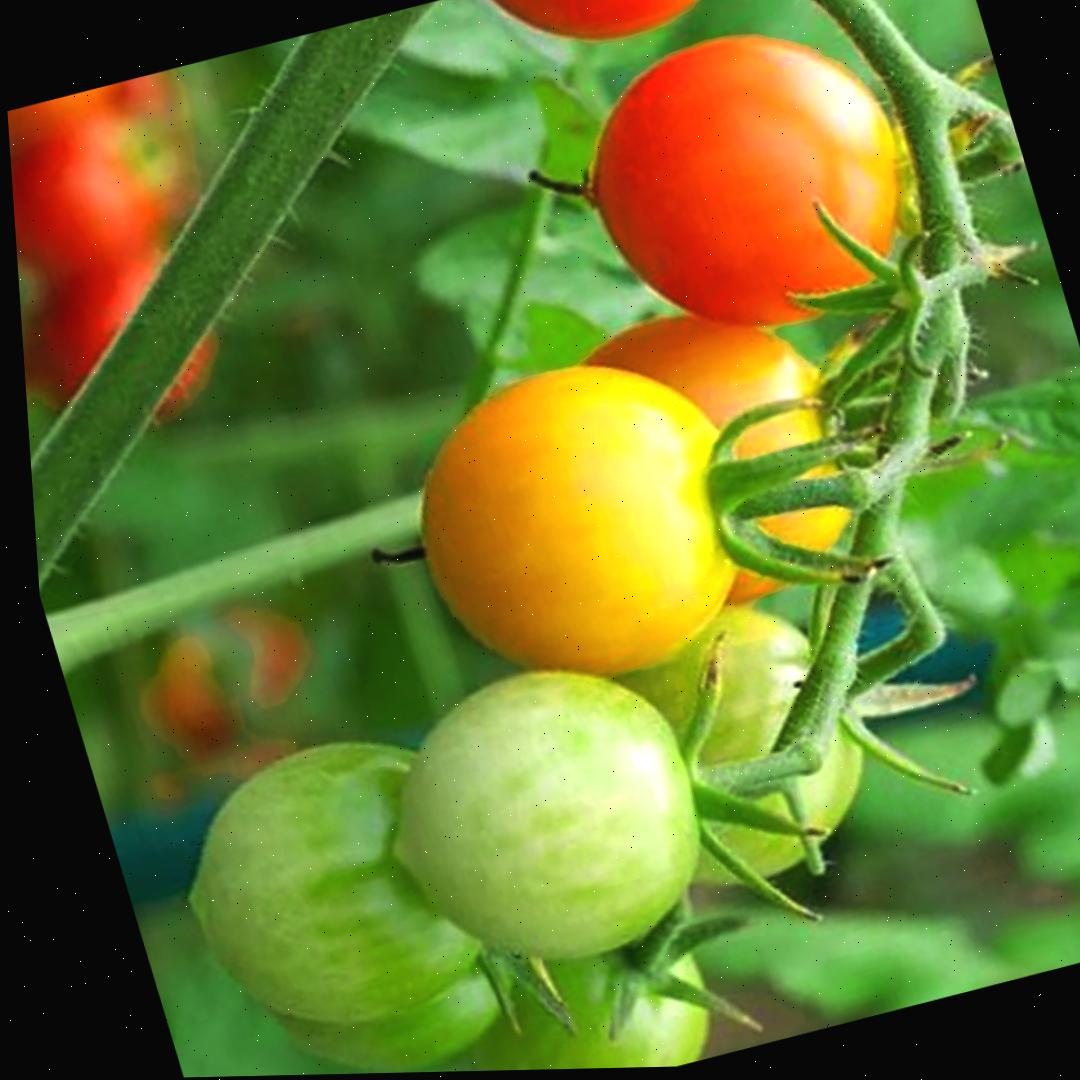matang: (551, 0, 946, 366)
mentah: (357, 633, 743, 995), (141, 708, 522, 1063)
setengah_matang: (372, 323, 796, 716)
